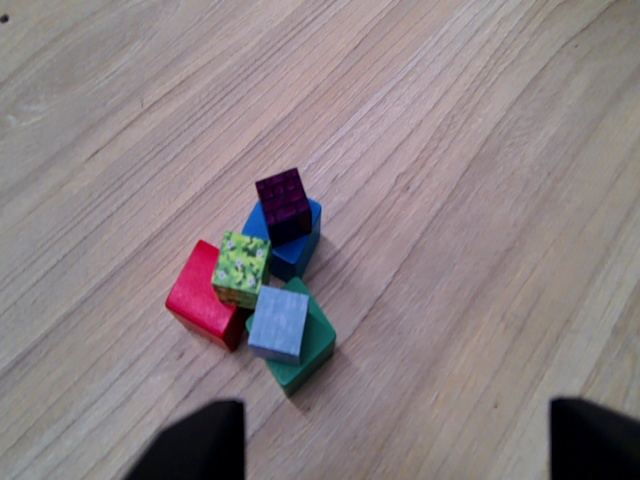brick: (251, 167, 315, 243)
grass: (217, 230, 261, 309)
stone: (252, 283, 312, 363)
